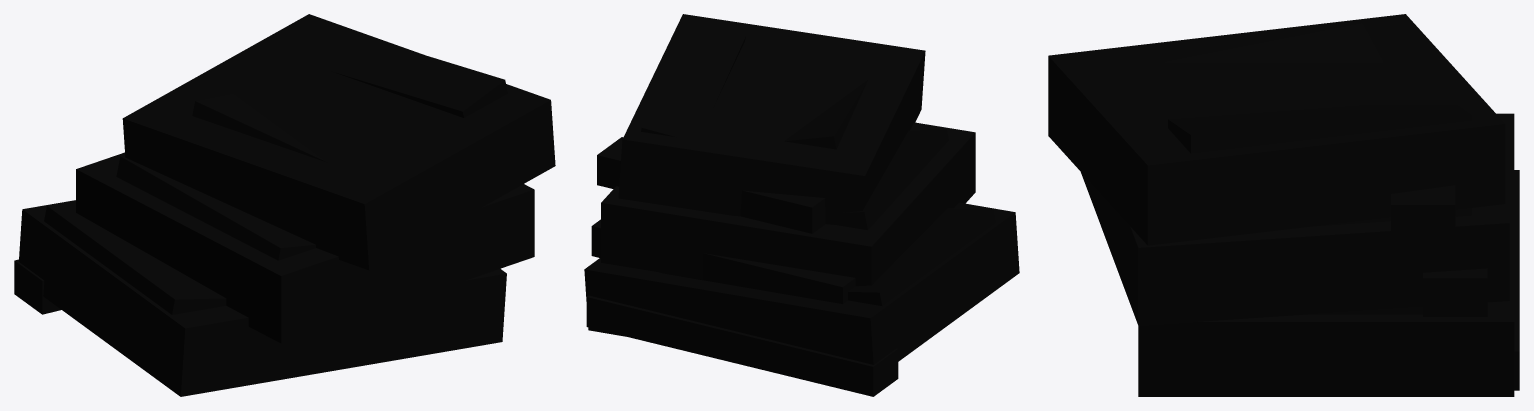
File: chitin_plate.obj
3 renders of one model, left to right at view 1: azimuth 30°, elevation 25°; view 2: azimuth 150°, elevation 25°; view 3: azimuth 270°, elevation 25°, orthographic. The views are drawn at different scales.
Bounding box in the file's own units: 0.875 × 0.5268 × 0.8154.
